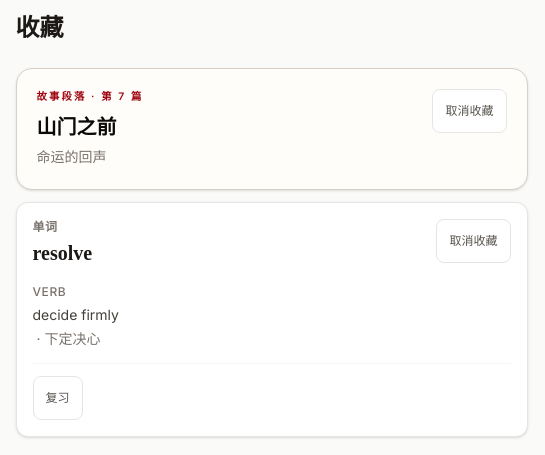
/bookmarks › sends a typed story-card payload and removes only that bookmark
Expected: the link "山门之前" is shown, [36,113,116,141]
Click the button with aria-label "取消收藏故事段落 山门之前": (470, 111) [432,89,506,133]
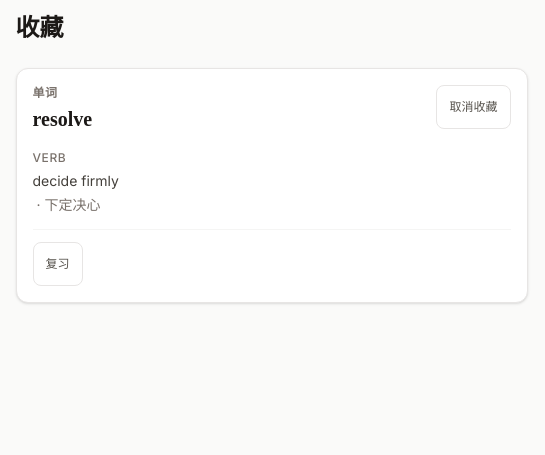
Expected: the link "resolve" is shown, [32,105,92,133]
Now the link "山门之前" is gone
